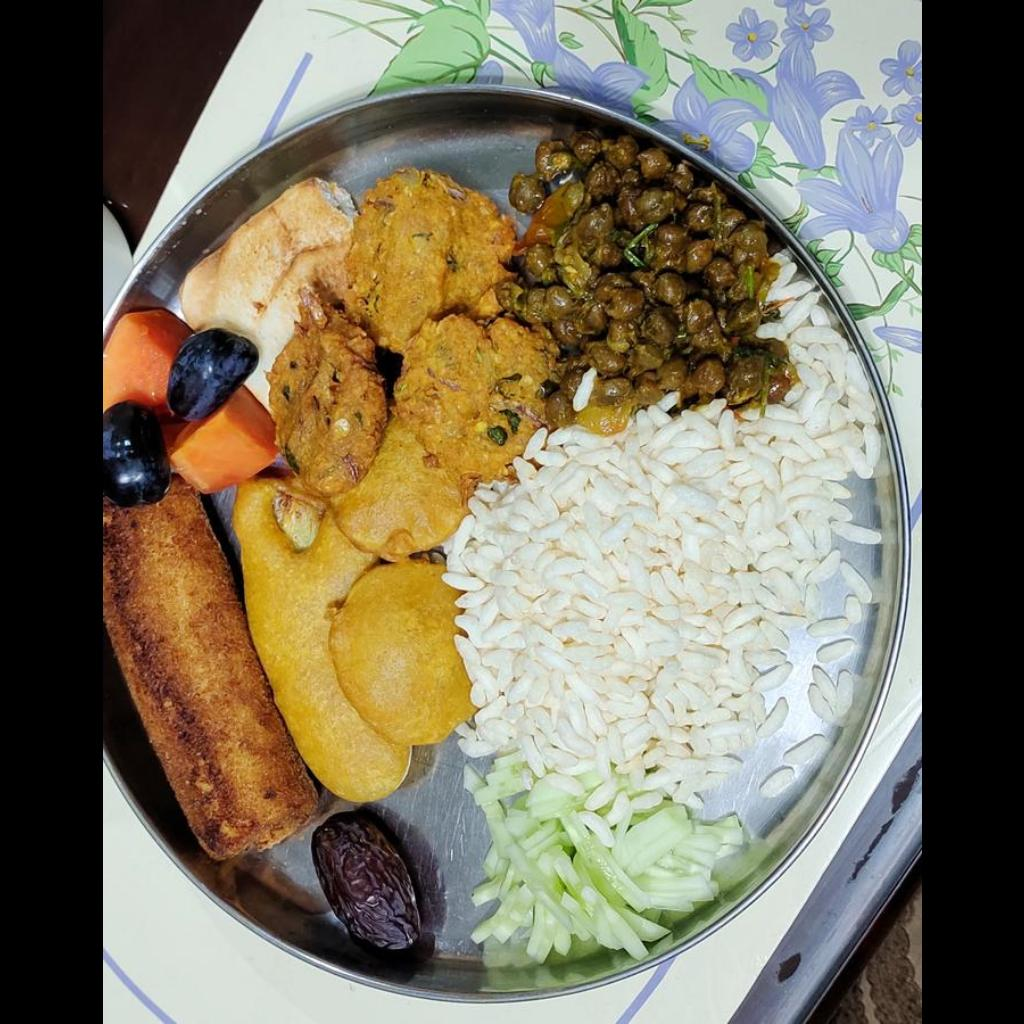beguni: (231, 481, 410, 800)
bread: (178, 179, 355, 410)
chola: (497, 131, 796, 433)
chop-alu: (328, 416, 474, 746)
cucumber: (471, 753, 760, 965)
dates: (321, 817, 413, 954), (167, 330, 256, 420), (102, 402, 169, 506)
mango: (102, 309, 274, 494)
piyaju: (268, 170, 555, 499)
puffed-rice: (444, 257, 878, 815)
roll: (102, 479, 317, 860)
